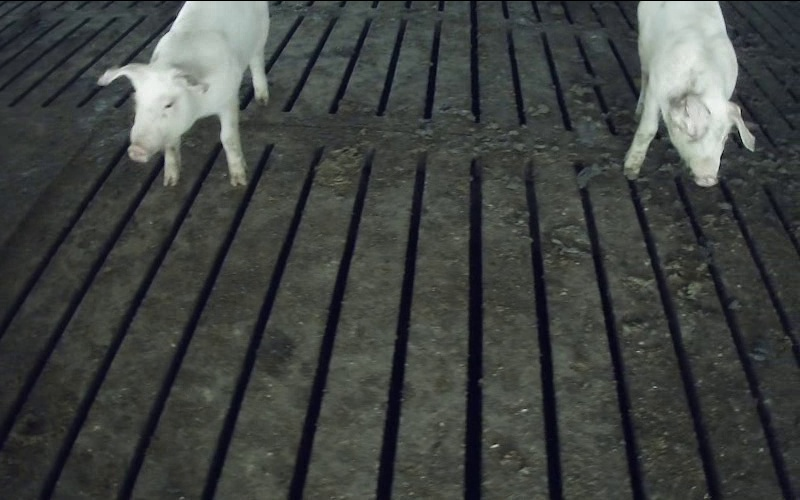pig: (98, 2, 268, 185), (624, 2, 754, 185)
